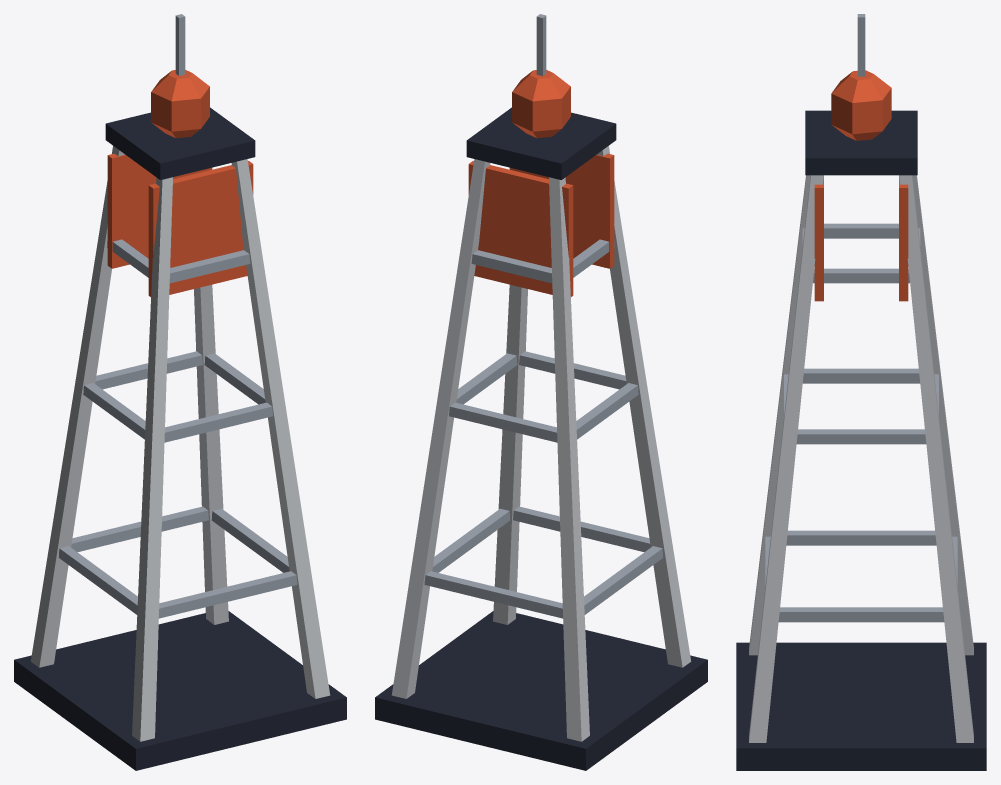
File: towerB.glb
3 renders of one model, left to right at view 1: azimuth 30°, elevation 25°; view 2: azimuth 150°, elevation 25°; view 3: azimuth 270°, elevation 25°, orthographic. The views are drawn at different scales.
Visible parts, largest first — view 1: moon-towerB; view 2: moon-towerB; view 3: moon-towerB.
Part boxes in pixels (x1=…): moon-towerB: x1=14, y1=14, x2=346, y2=770; moon-towerB: x1=375, y1=14, x2=707, y2=770; moon-towerB: x1=736, y1=14, x2=986, y2=770.
Size of the model in its own units: 0.4 by 1.24 by 0.4.
